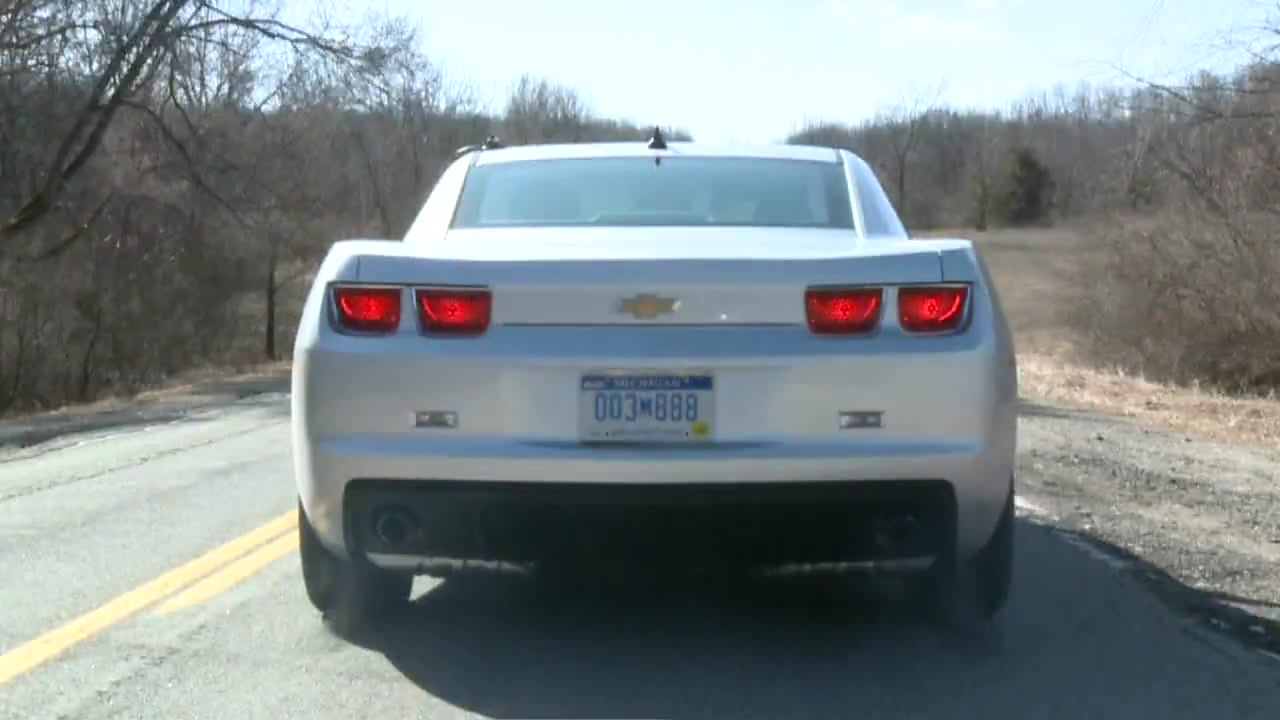car: (288, 134, 1024, 642)
